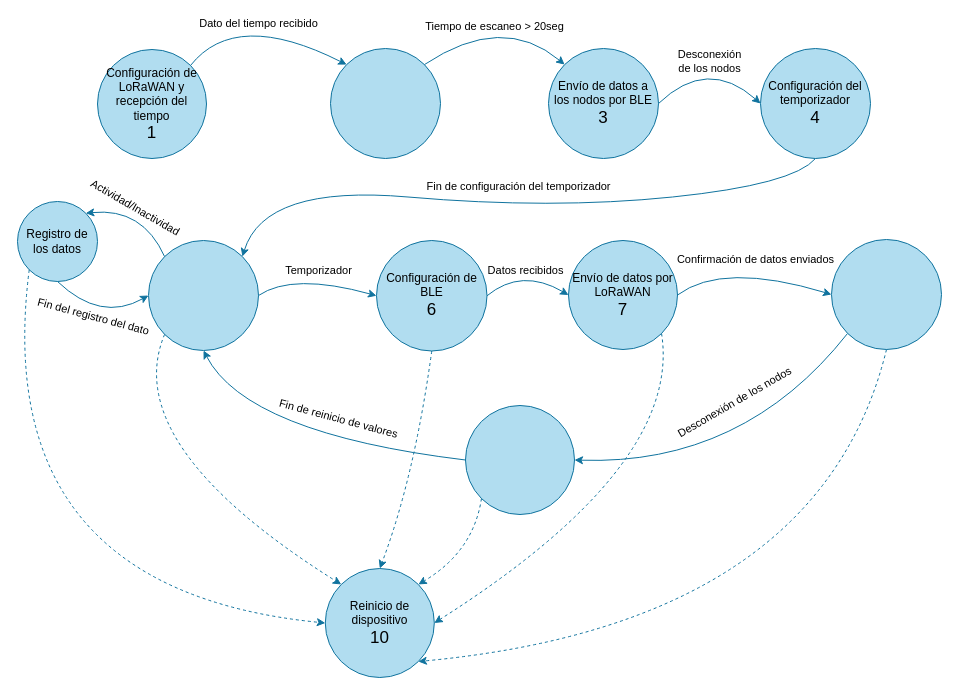
Image size: 959x695. Some labels were removed from this diagram. The centre of each missing label's shape, as x and y in pixels:
"Bajo Consumo 5" belongs at (x=203, y=295).
"Configuración del BLE 2" belongs at (x=385, y=103).
"Desconexión de nodos 8" belongs at (x=886, y=294).
"Reinicio de variables y temporizador 9" belongs at (x=519, y=459).
